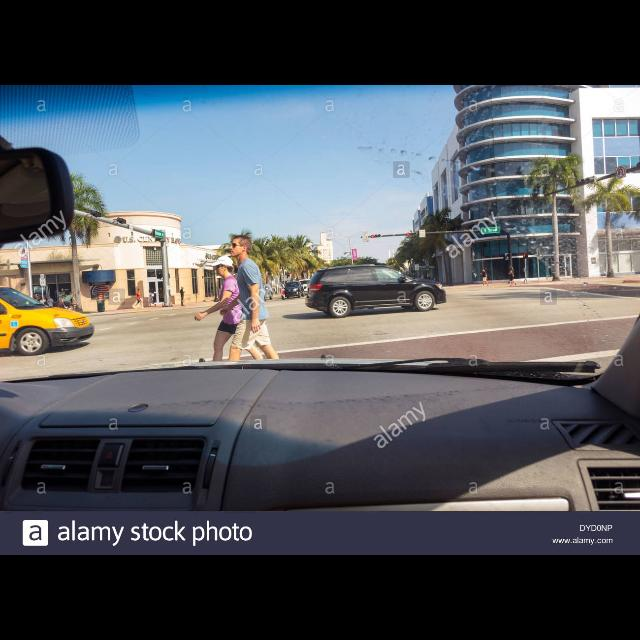head: (229, 235, 253, 258), (216, 257, 234, 277), (182, 286, 184, 290), (482, 270, 486, 272), (510, 268, 512, 272), (138, 290, 140, 292), (149, 291, 151, 293), (281, 283, 283, 285)
person: (219, 228, 287, 396), (192, 253, 266, 402), (133, 288, 145, 310), (480, 268, 490, 288), (147, 290, 157, 308), (278, 281, 286, 301), (508, 267, 516, 287), (180, 286, 186, 308)
